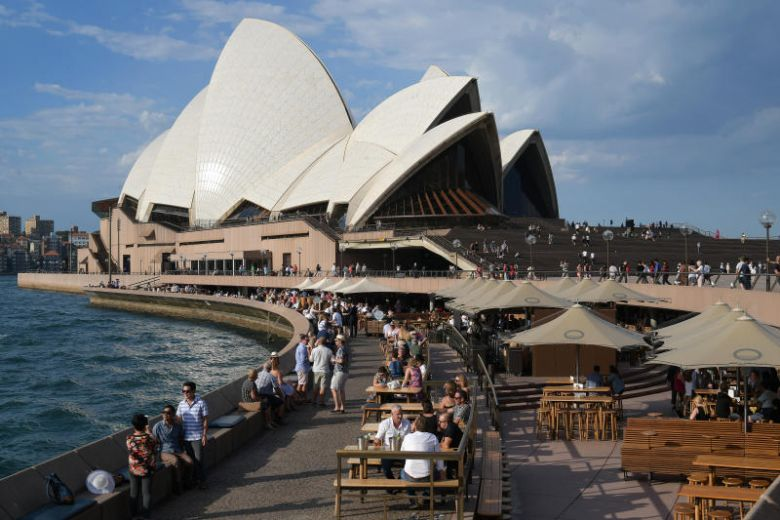opera house: (64, 2, 583, 252)
